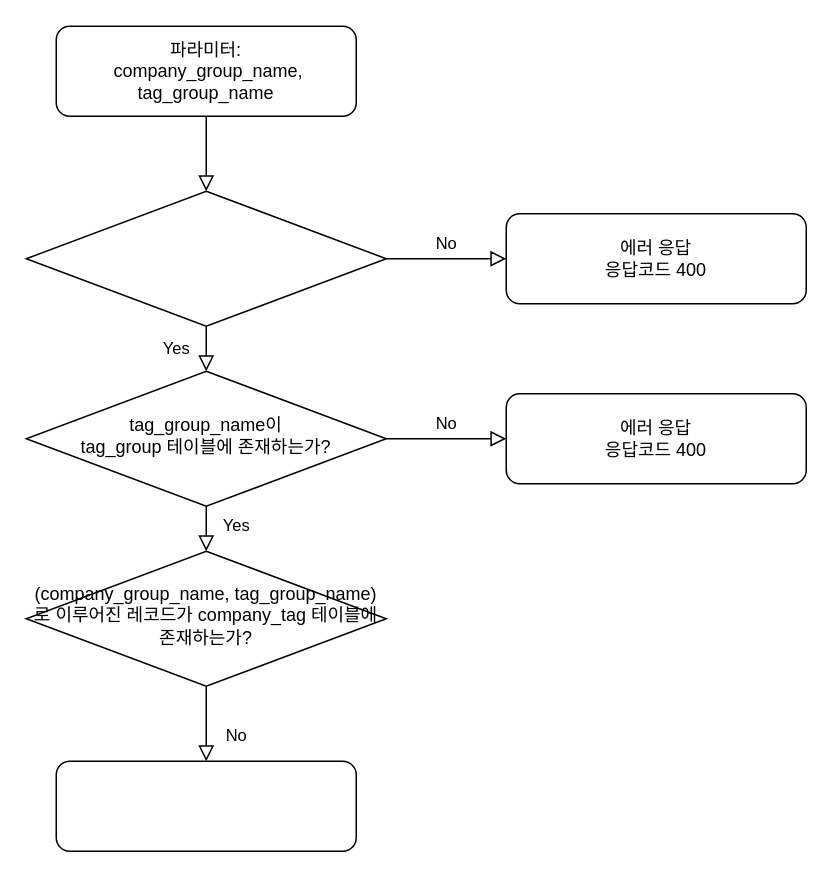
Image size: 833x878. Some labels were removed from this diagram. Here are the shapes that lost their labels. From the top down, the centre of each, then its label:
point 205,258: company_group_name이 company_group 테이블에 존재하는가?
point 205,805: 레코드 삽입 후 Response
